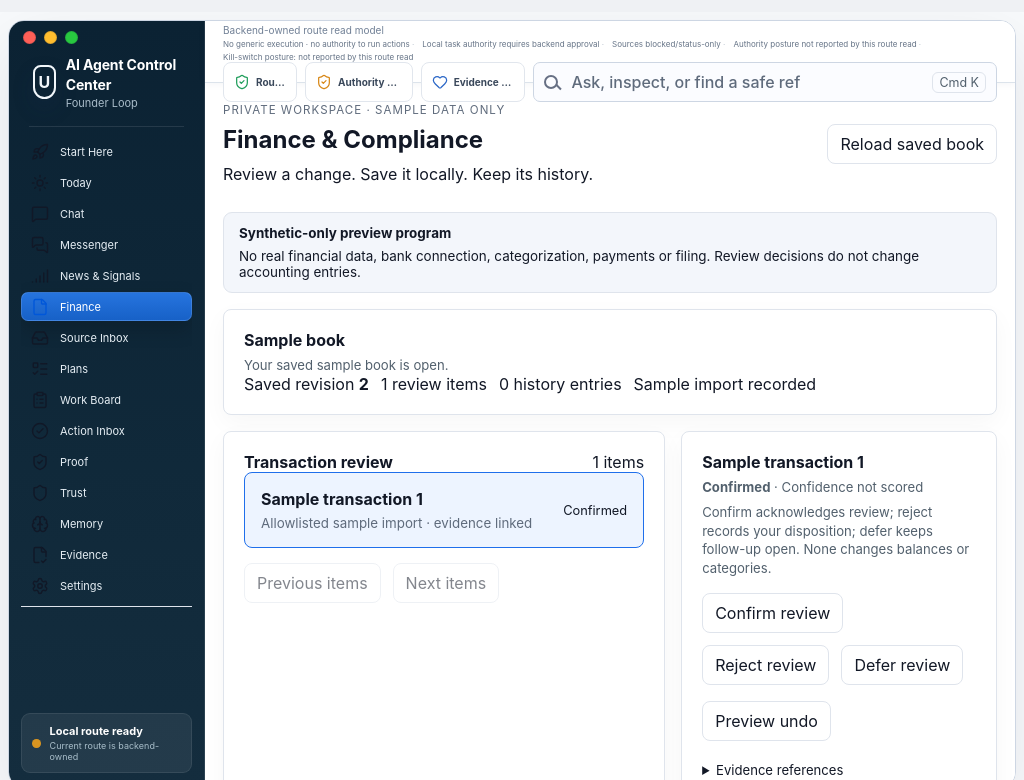
Test case: Finance workspace › binds undo to the current effective decision
The width and height of the screenshot is (1024, 780).
Step 1. Click the button "Preview undo" → (767, 721), box [702,701,831,741]
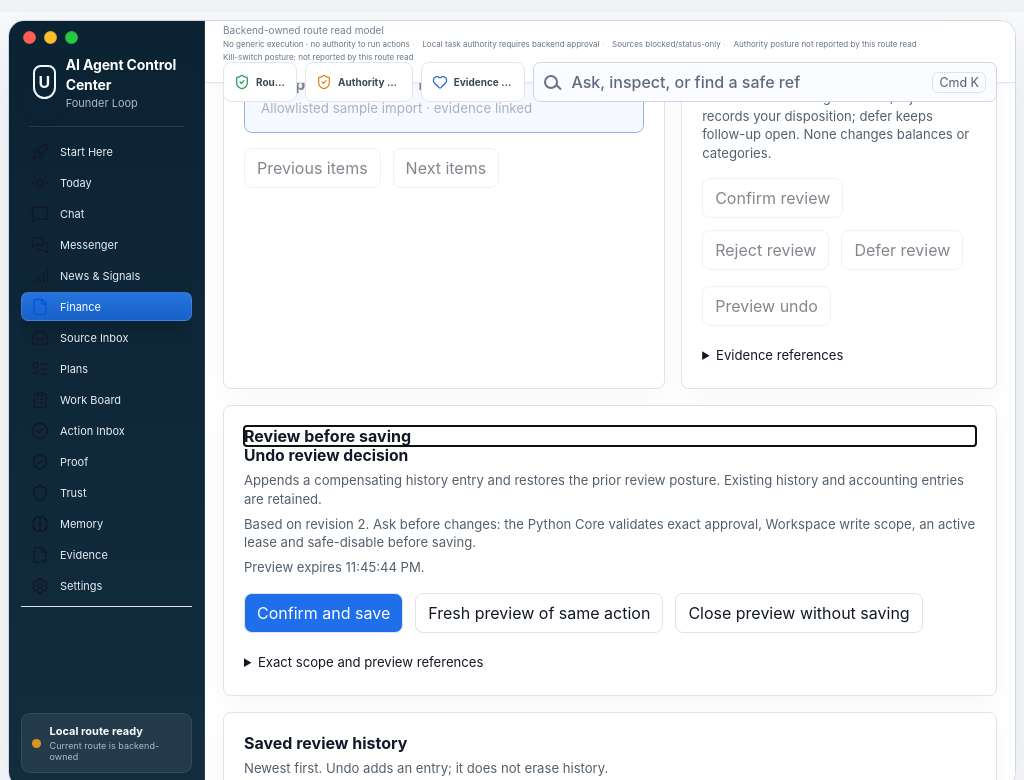
Check: the heading "Review before saving" is shown, box [244,426,411,446]
